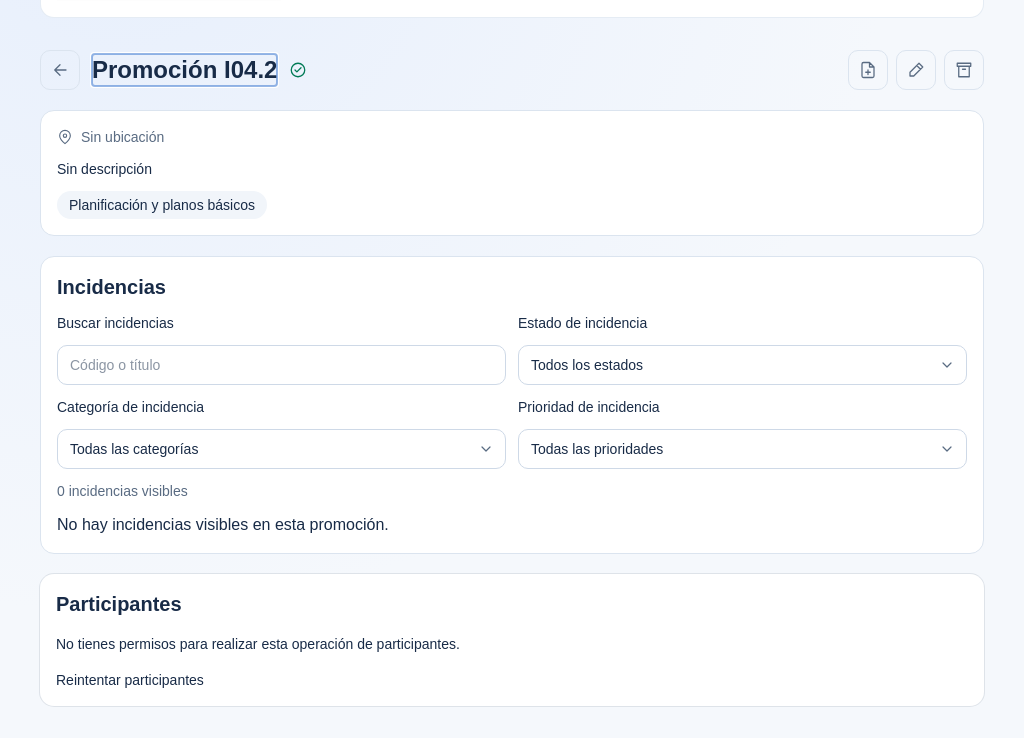
Test: shows a safe participant 403 failure and allows retry
(page scrolled)
Step 1. Click the button "Reintentar participantes" → coordinates (130, 680), box [56,670,204,690]
(page scrolled)
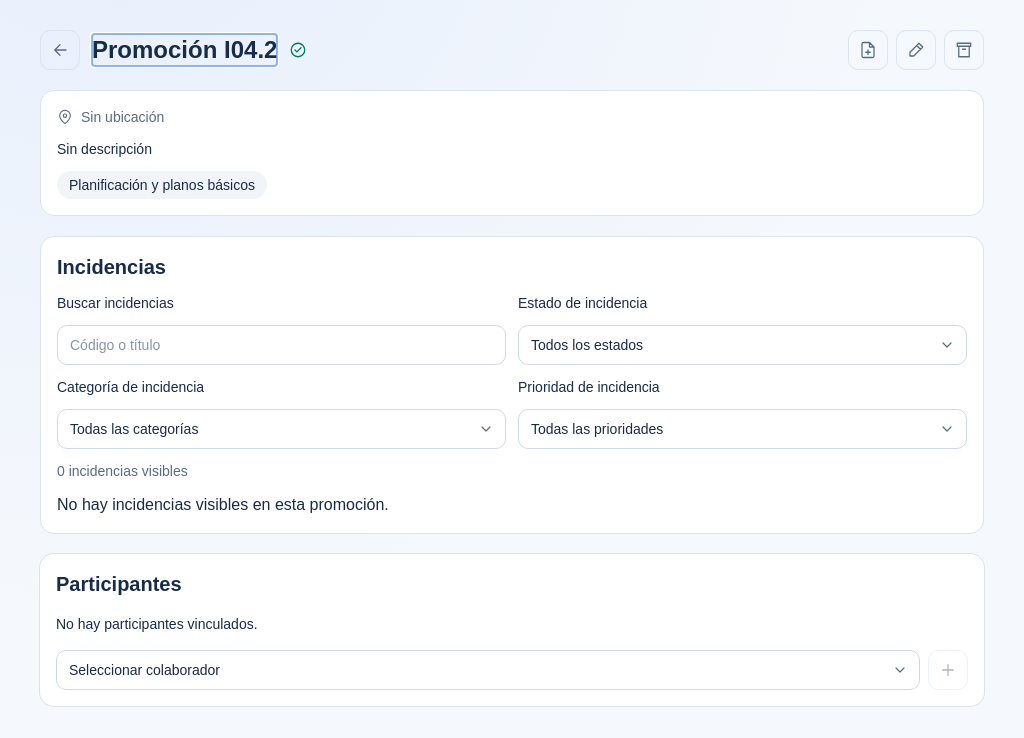
Expected: the text "No hay participantes vinculados." is shown, [56,616,258,632]
